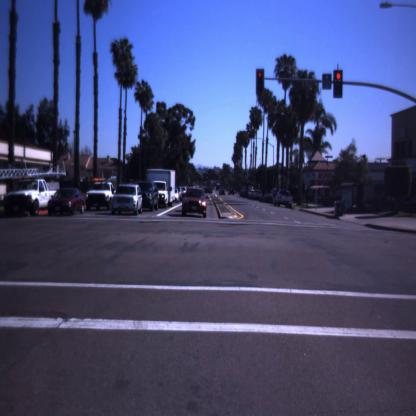trafficlight: (252, 63, 266, 96), (333, 65, 345, 103)
